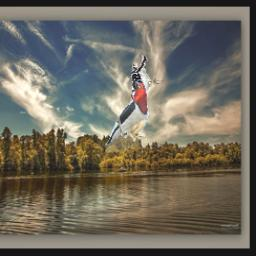Woodpecker: (105, 78, 151, 153), (131, 55, 163, 102)
